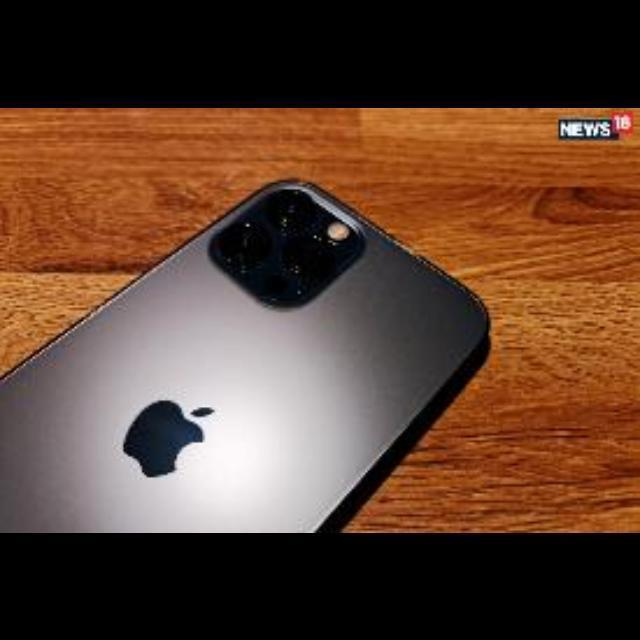phone: (2, 173, 502, 534)
